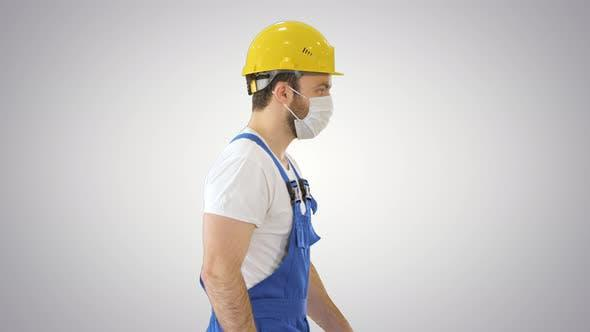hardhat: (240, 19, 348, 80)
worker: (201, 19, 353, 332)
